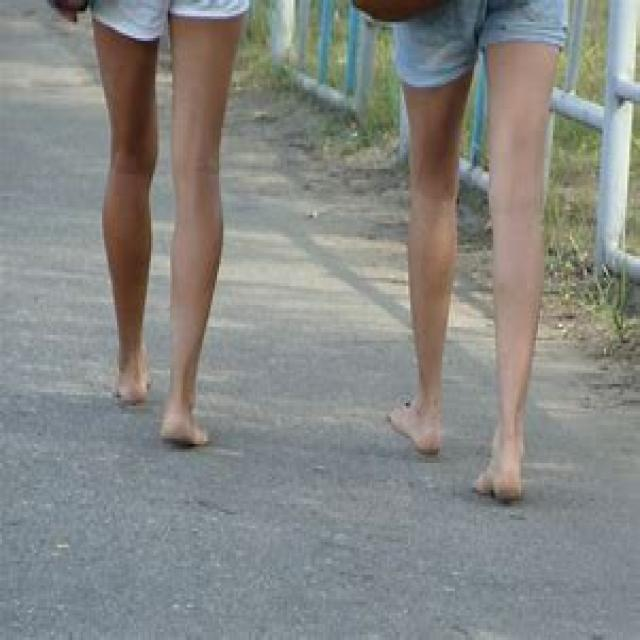no_boots: (471, 418, 532, 502), (384, 383, 448, 461), (154, 397, 214, 455), (110, 346, 156, 411)
person: (378, 0, 582, 500), (70, 0, 257, 458)
